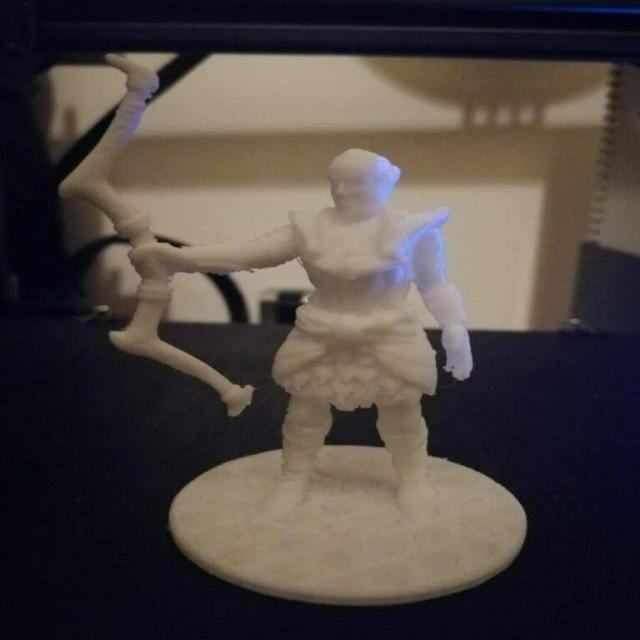Without deffect: (55, 42, 546, 627)
